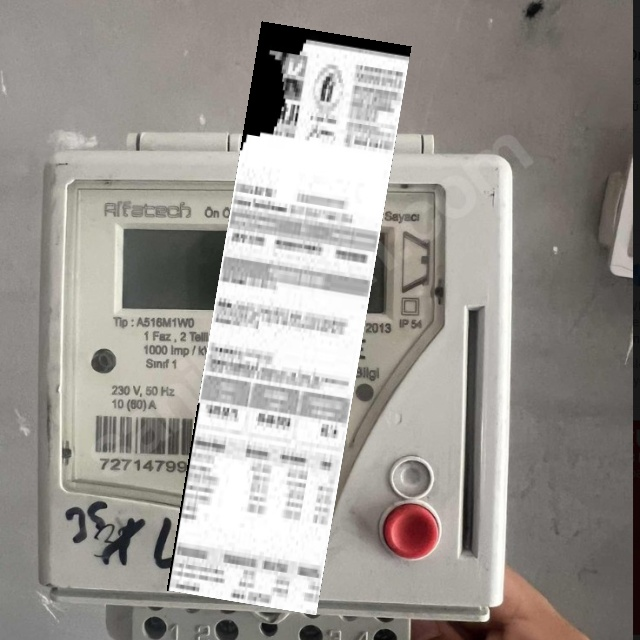electricity-bill: (166, 21, 411, 615)
